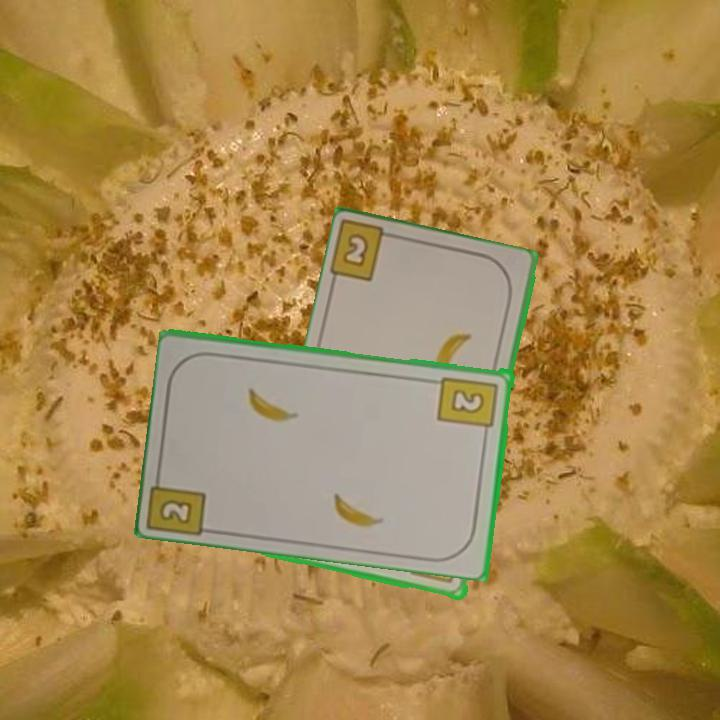2b: (328, 220, 404, 285), (147, 465, 210, 536), (435, 372, 501, 439)
